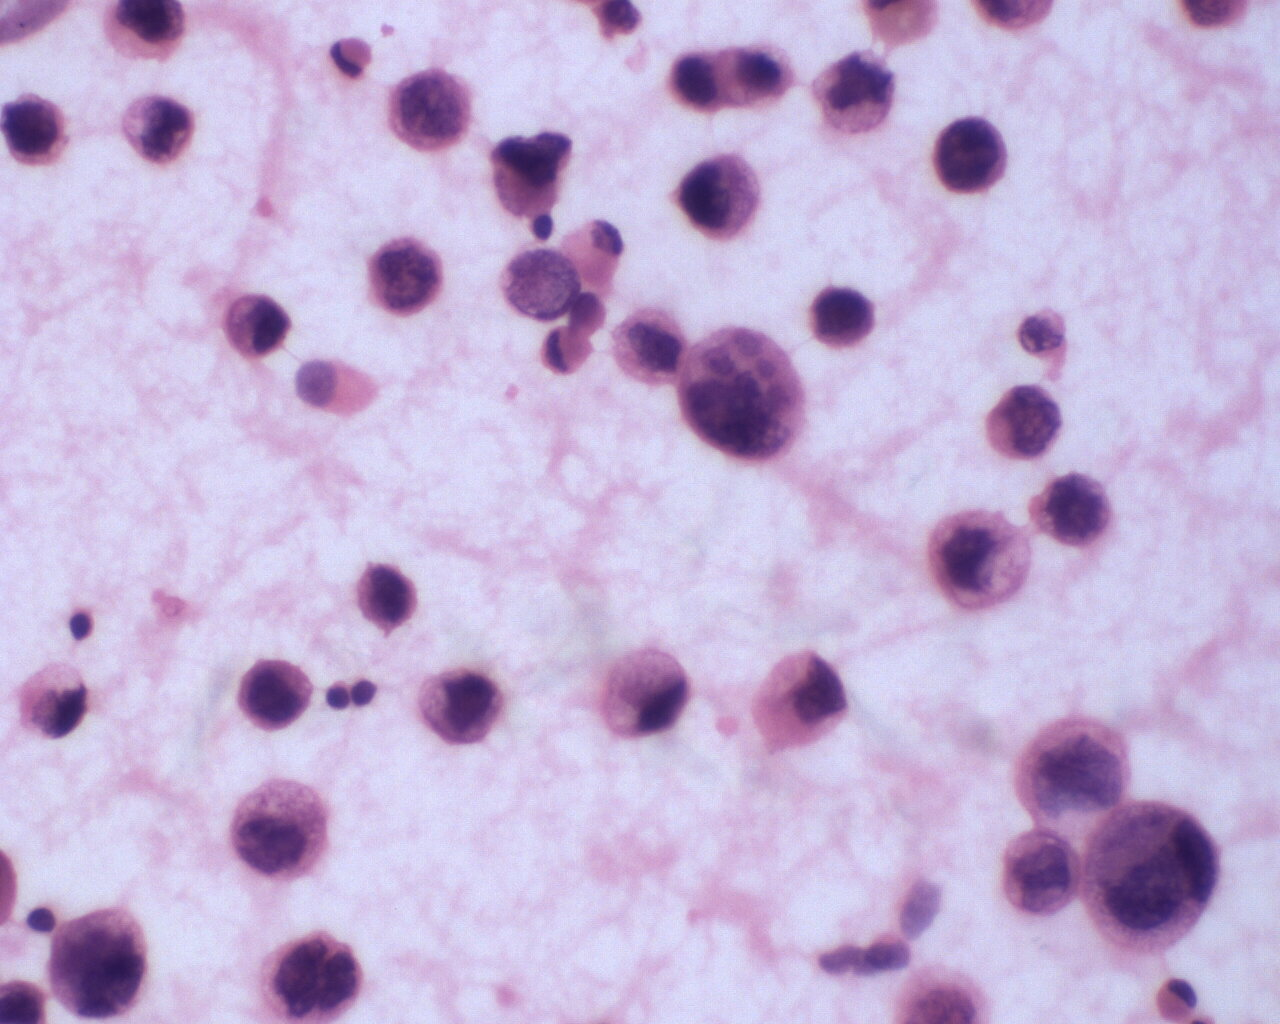ab: (1080, 799, 1224, 960), (674, 318, 807, 463), (34, 907, 156, 1024), (742, 649, 853, 759), (921, 506, 1034, 611), (225, 776, 333, 886), (254, 925, 373, 1024), (673, 152, 767, 247), (386, 61, 478, 156), (927, 104, 1015, 199), (416, 664, 509, 750), (364, 229, 452, 319), (813, 47, 900, 137), (230, 654, 323, 738), (998, 828, 1080, 917), (1029, 462, 1112, 551), (980, 380, 1066, 463), (119, 82, 197, 166), (4, 84, 72, 174), (352, 556, 424, 638), (220, 289, 290, 360), (811, 280, 878, 351)
histo: (594, 644, 699, 743)
